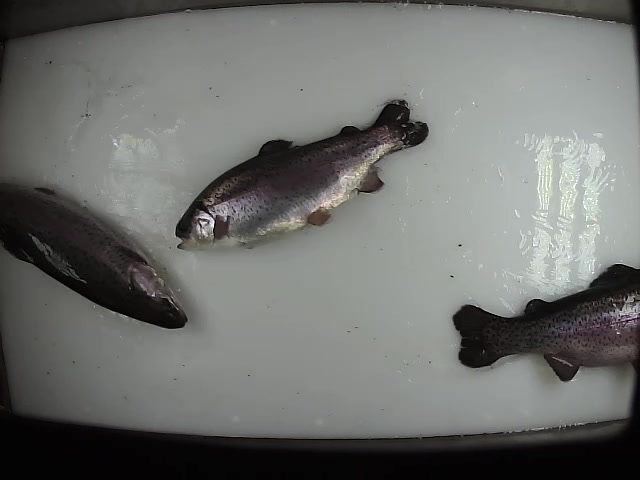fish: (172, 98, 433, 253), (1, 181, 189, 331), (451, 261, 640, 386)
